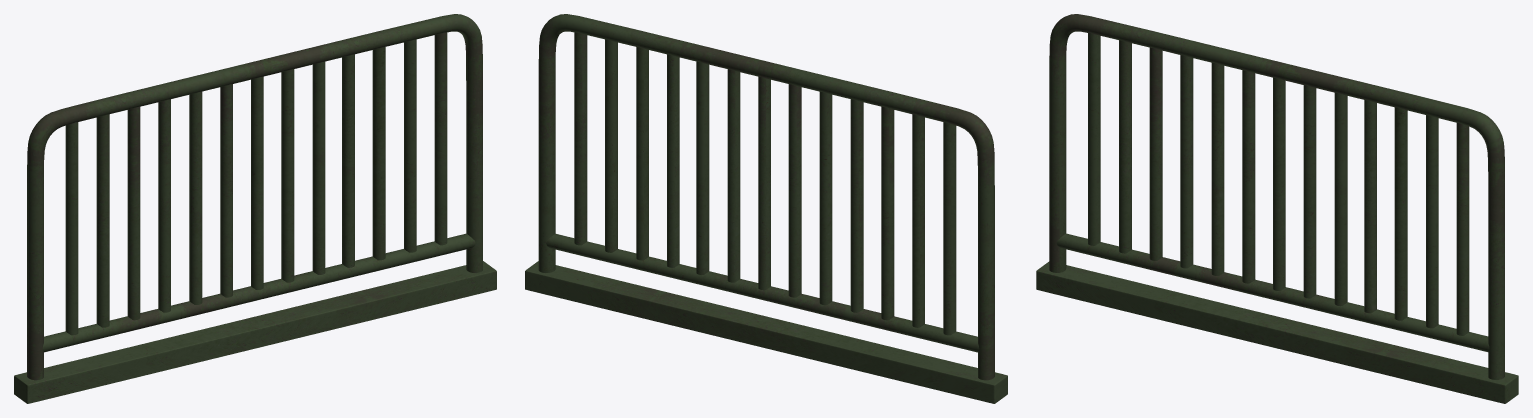
File: FENCE1.fbx
The picture shows the model from 3 angles, left to right: view 1: azimuth 30°, elevation 25°; view 2: azimuth 150°, elevation 25°; view 3: azimuth 330°, elevation 25°; orthographic projection.
Visible parts, largest first — view 1: FENCE1; view 2: FENCE1; view 3: FENCE1.
Boxes of the visible parts, left/top/right/bottom form: FENCE1: left=14, top=14, right=496, bottom=403; FENCE1: left=525, top=14, right=1007, bottom=403; FENCE1: left=1036, top=14, right=1518, bottom=403.
Size of the model in its own units: 231 by 131 by 11.77.
